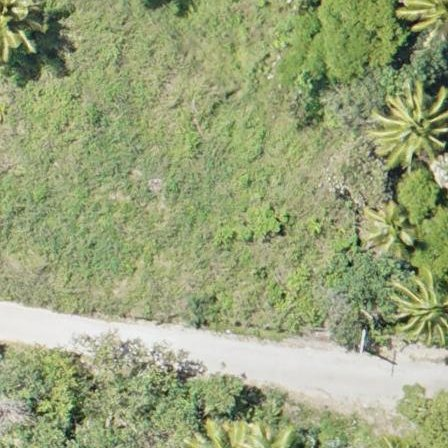palm_tree: (370, 84, 448, 163), (361, 196, 426, 257), (396, 267, 448, 339)
